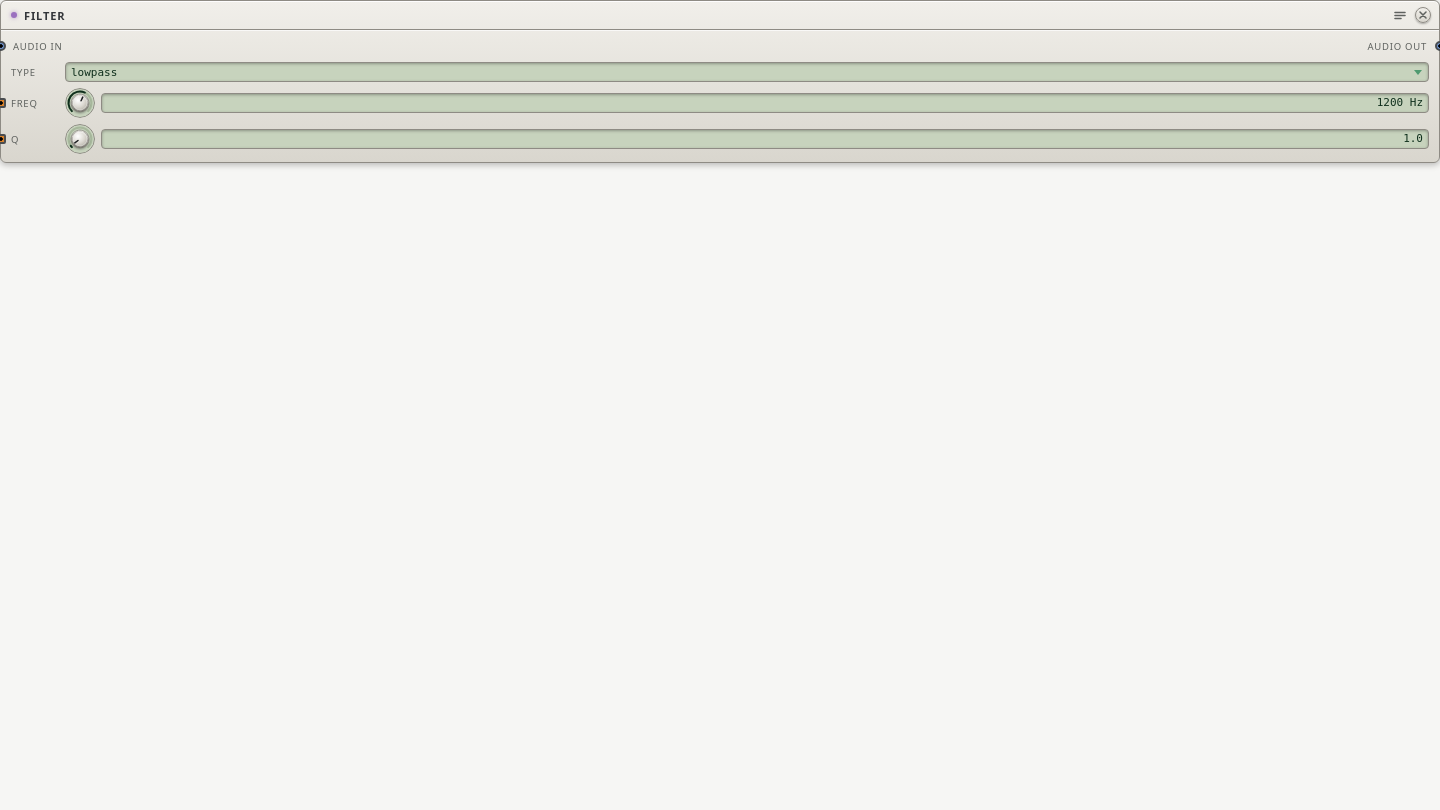
Test: PresetMenu › says a name already saved replaces that preset
Click the button named "Presets of Filter" at (1400, 15), box [1392, 7, 1408, 23]
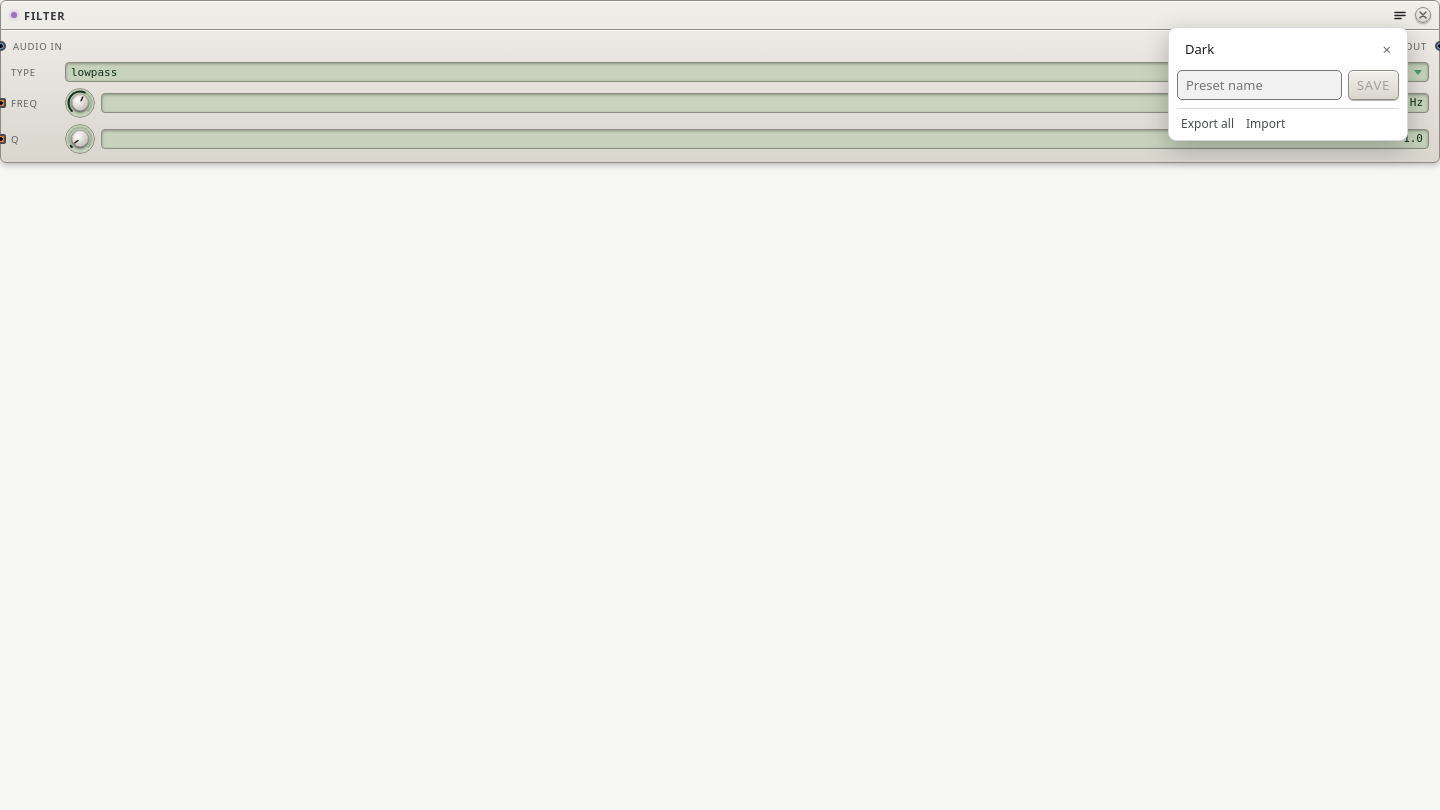
Type "dark" into the field labelled "Preset name" at (1259, 85), box [1177, 70, 1342, 100]
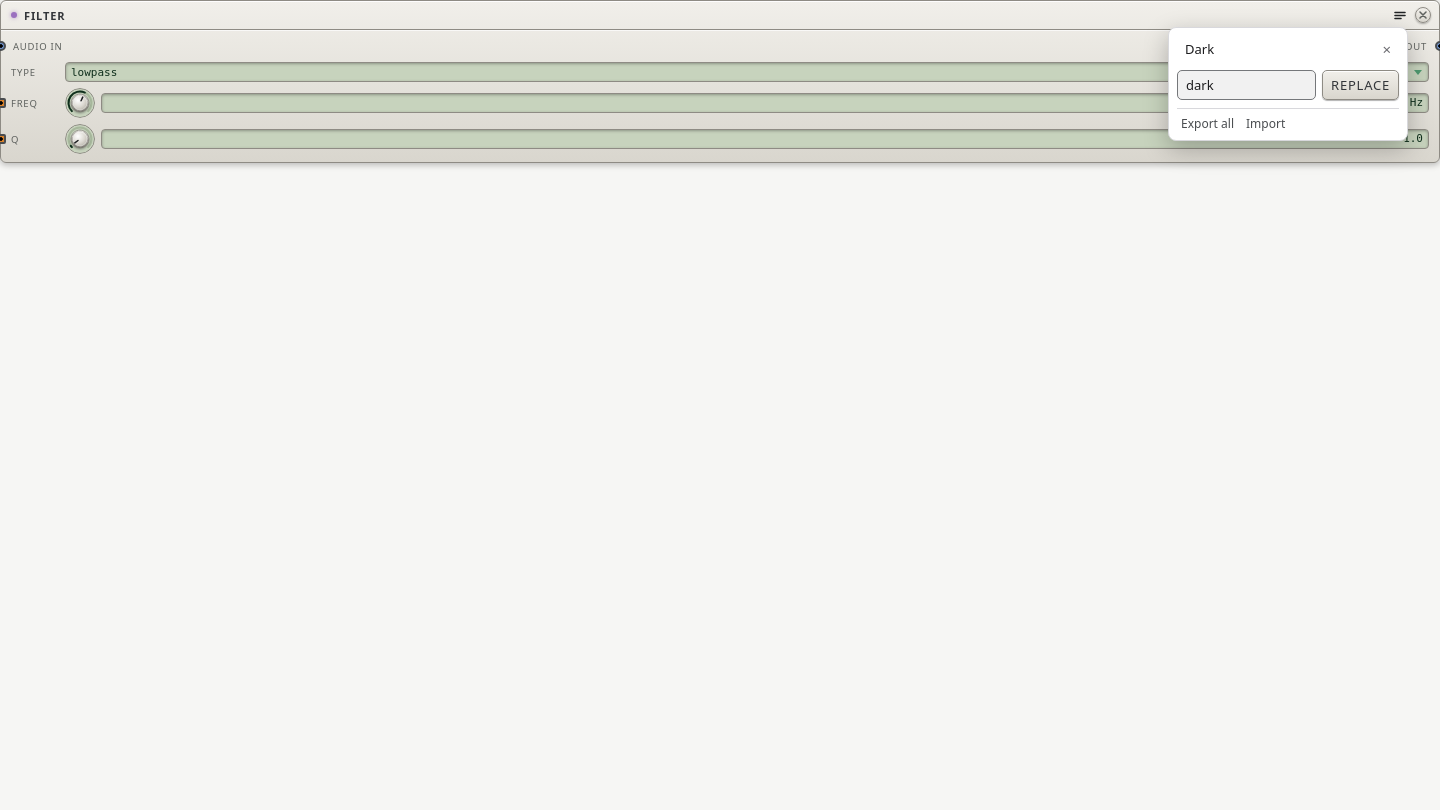
Expected: the button with aria-label "Replace preset" is enabled, [1322, 70, 1399, 100]
